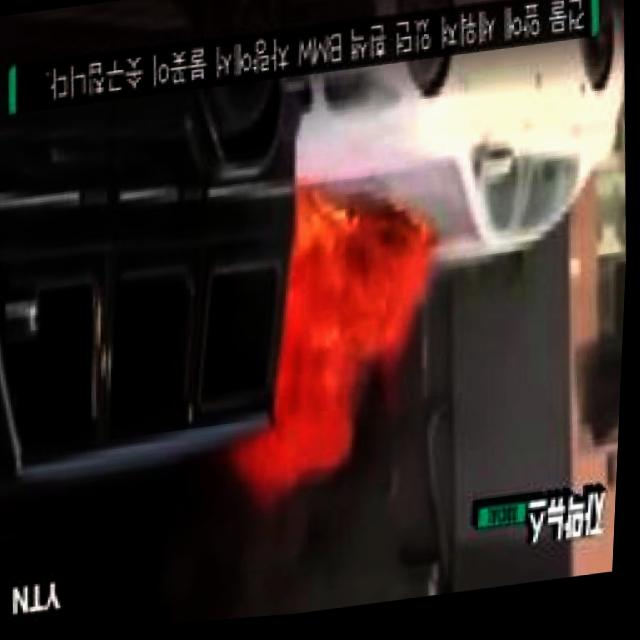Fire: (208, 185, 460, 521)
Smoke: (111, 504, 354, 631)
